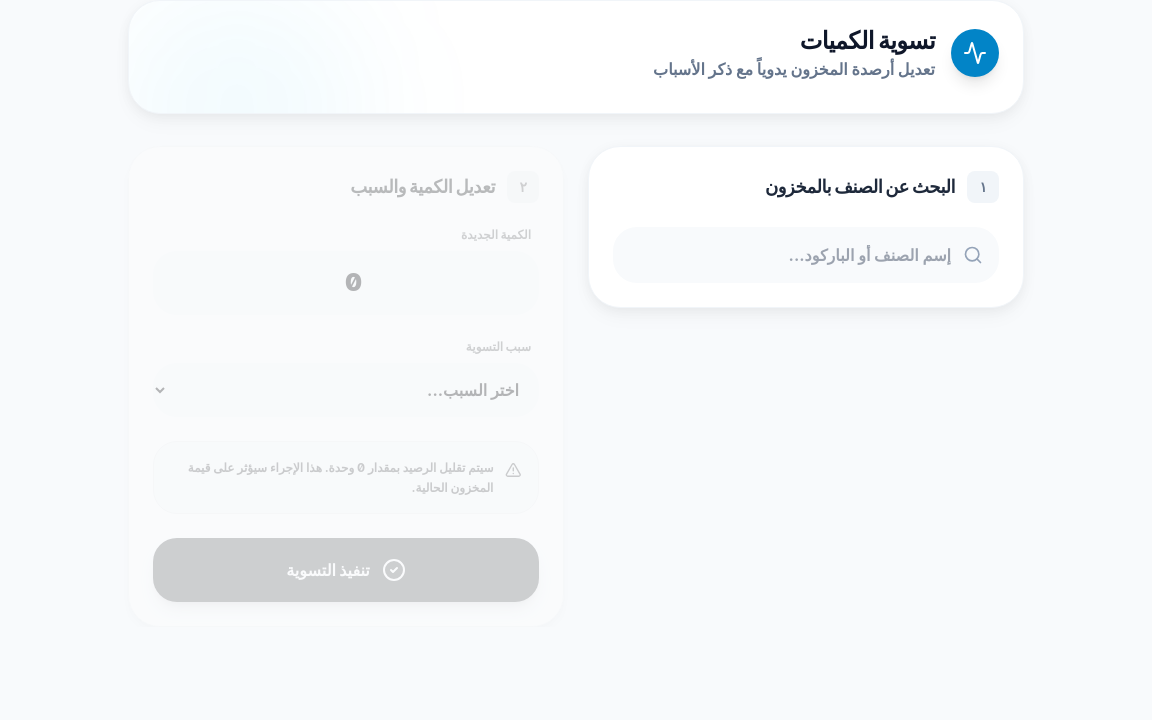
Test: stock-adjustment client interactions › clears the selected item after a successful adjustment
The image size is (1152, 720).
In the field with placeholder "إسم الصنف أو الباركود...": (806, 255) 613,227 -> 999,283, type "Adju"
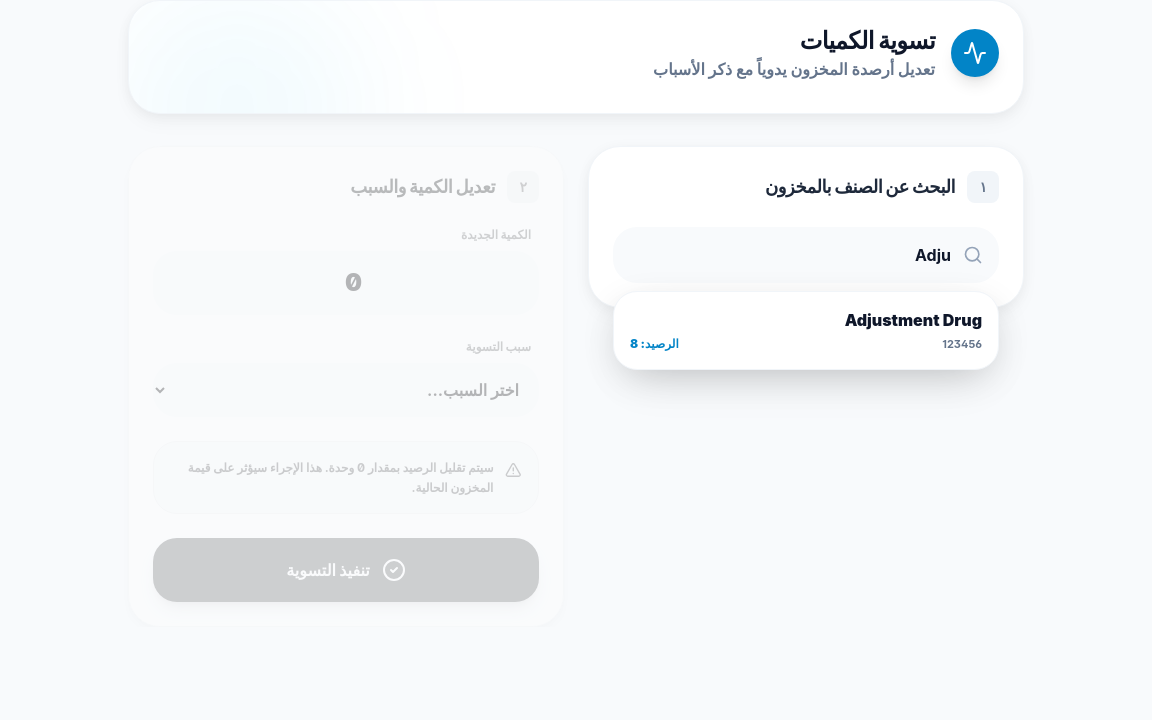
Click the button "Adjustment Drug 123456 الرصيد: 8": click(913, 320) 614,292 -> 998,368
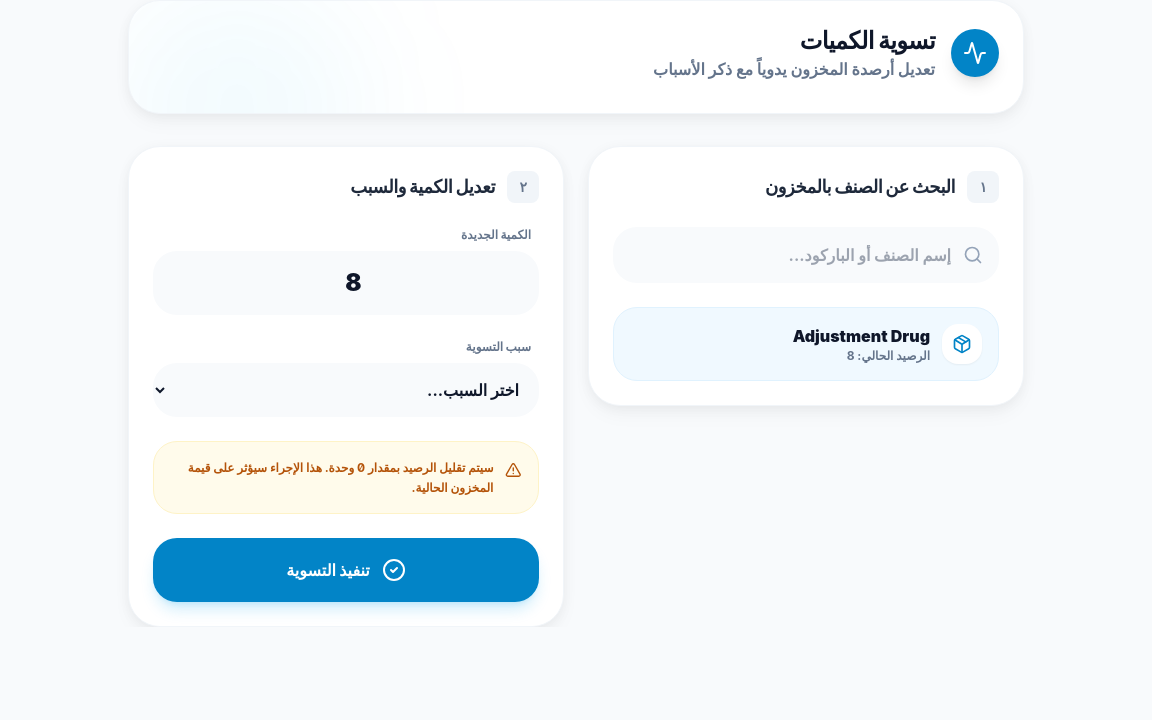
Select "جرد" in the dropdown: (346, 390) 153,363 -> 539,417
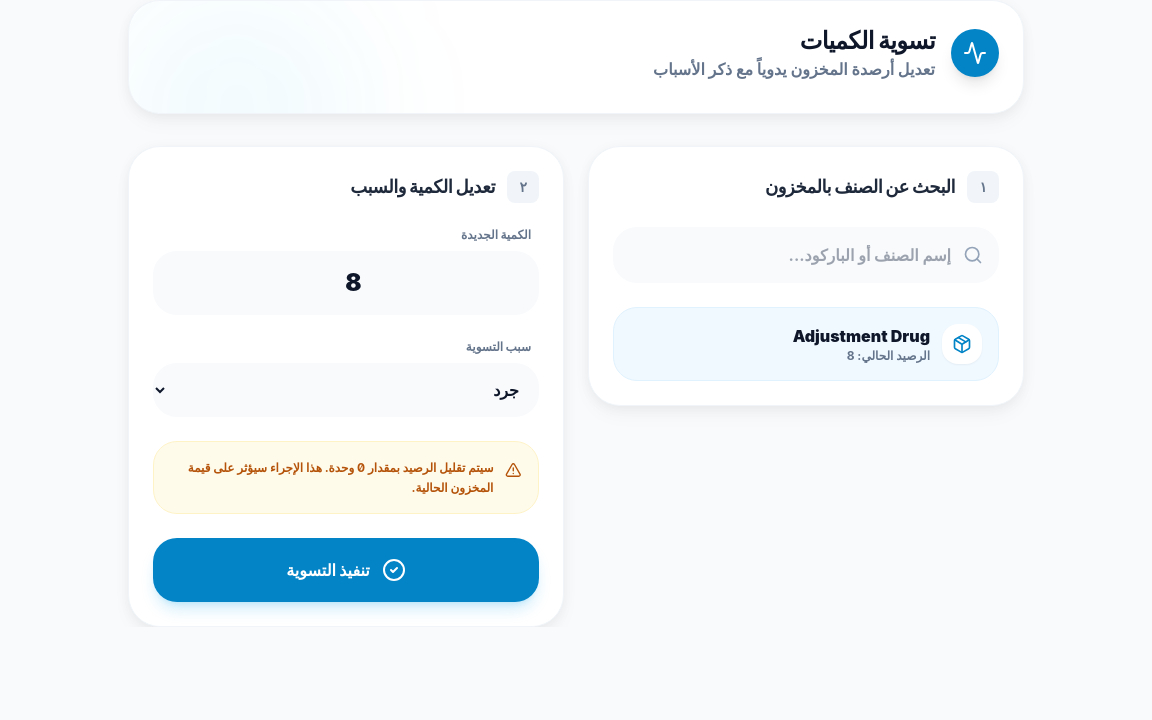
Click the button "تنفيذ التسوية": click(346, 570) 153,538 -> 539,602
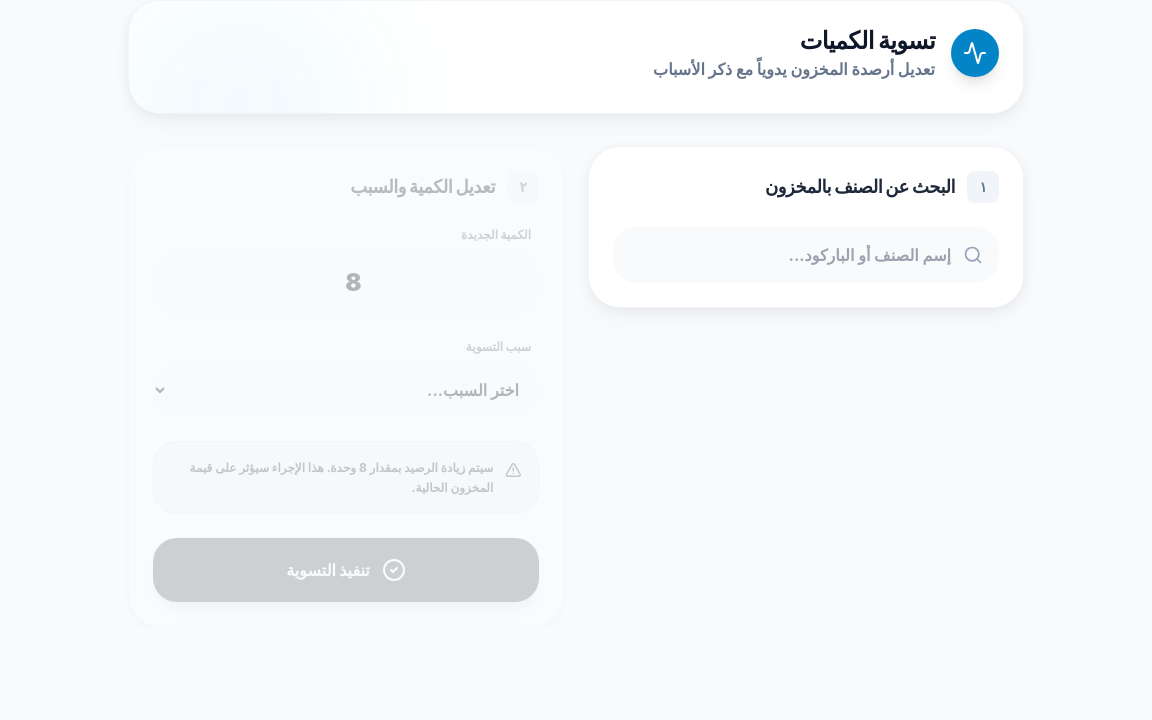
Result: the text "الرصيد الحالي: 8" is gone
